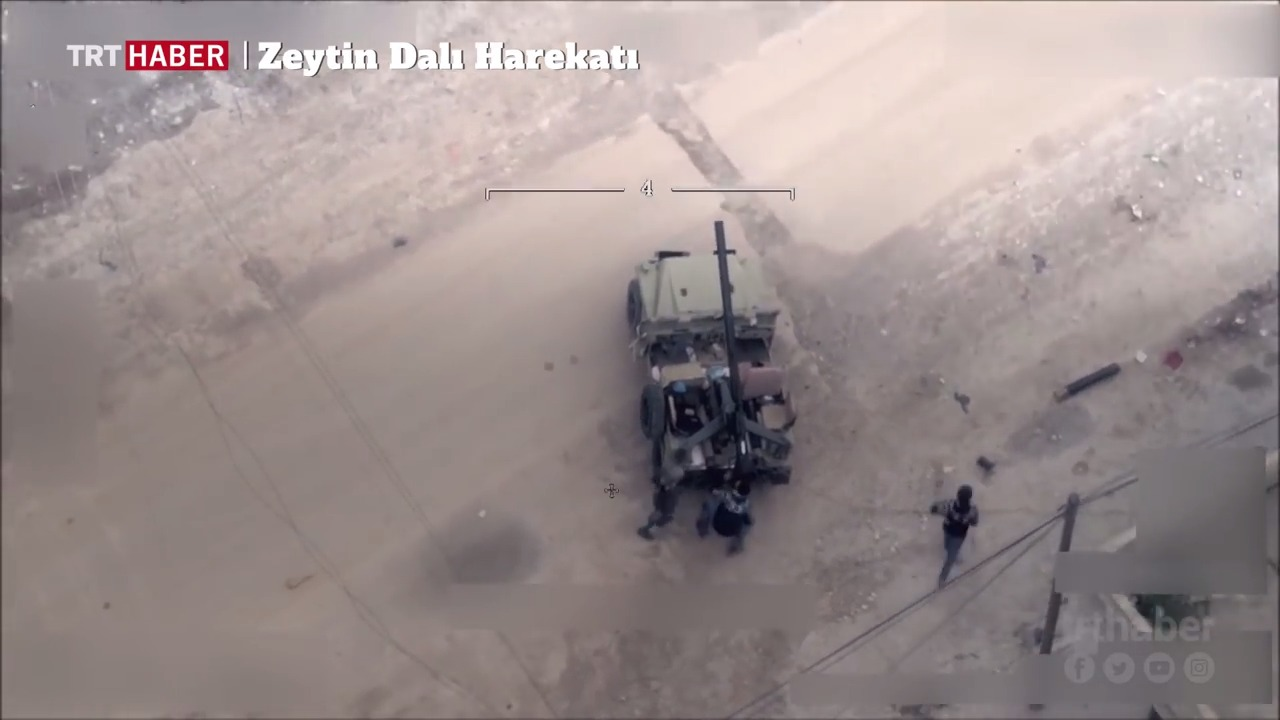arac: (627, 217, 801, 492)
insan: (924, 482, 976, 589), (698, 472, 756, 553), (639, 459, 688, 554)
